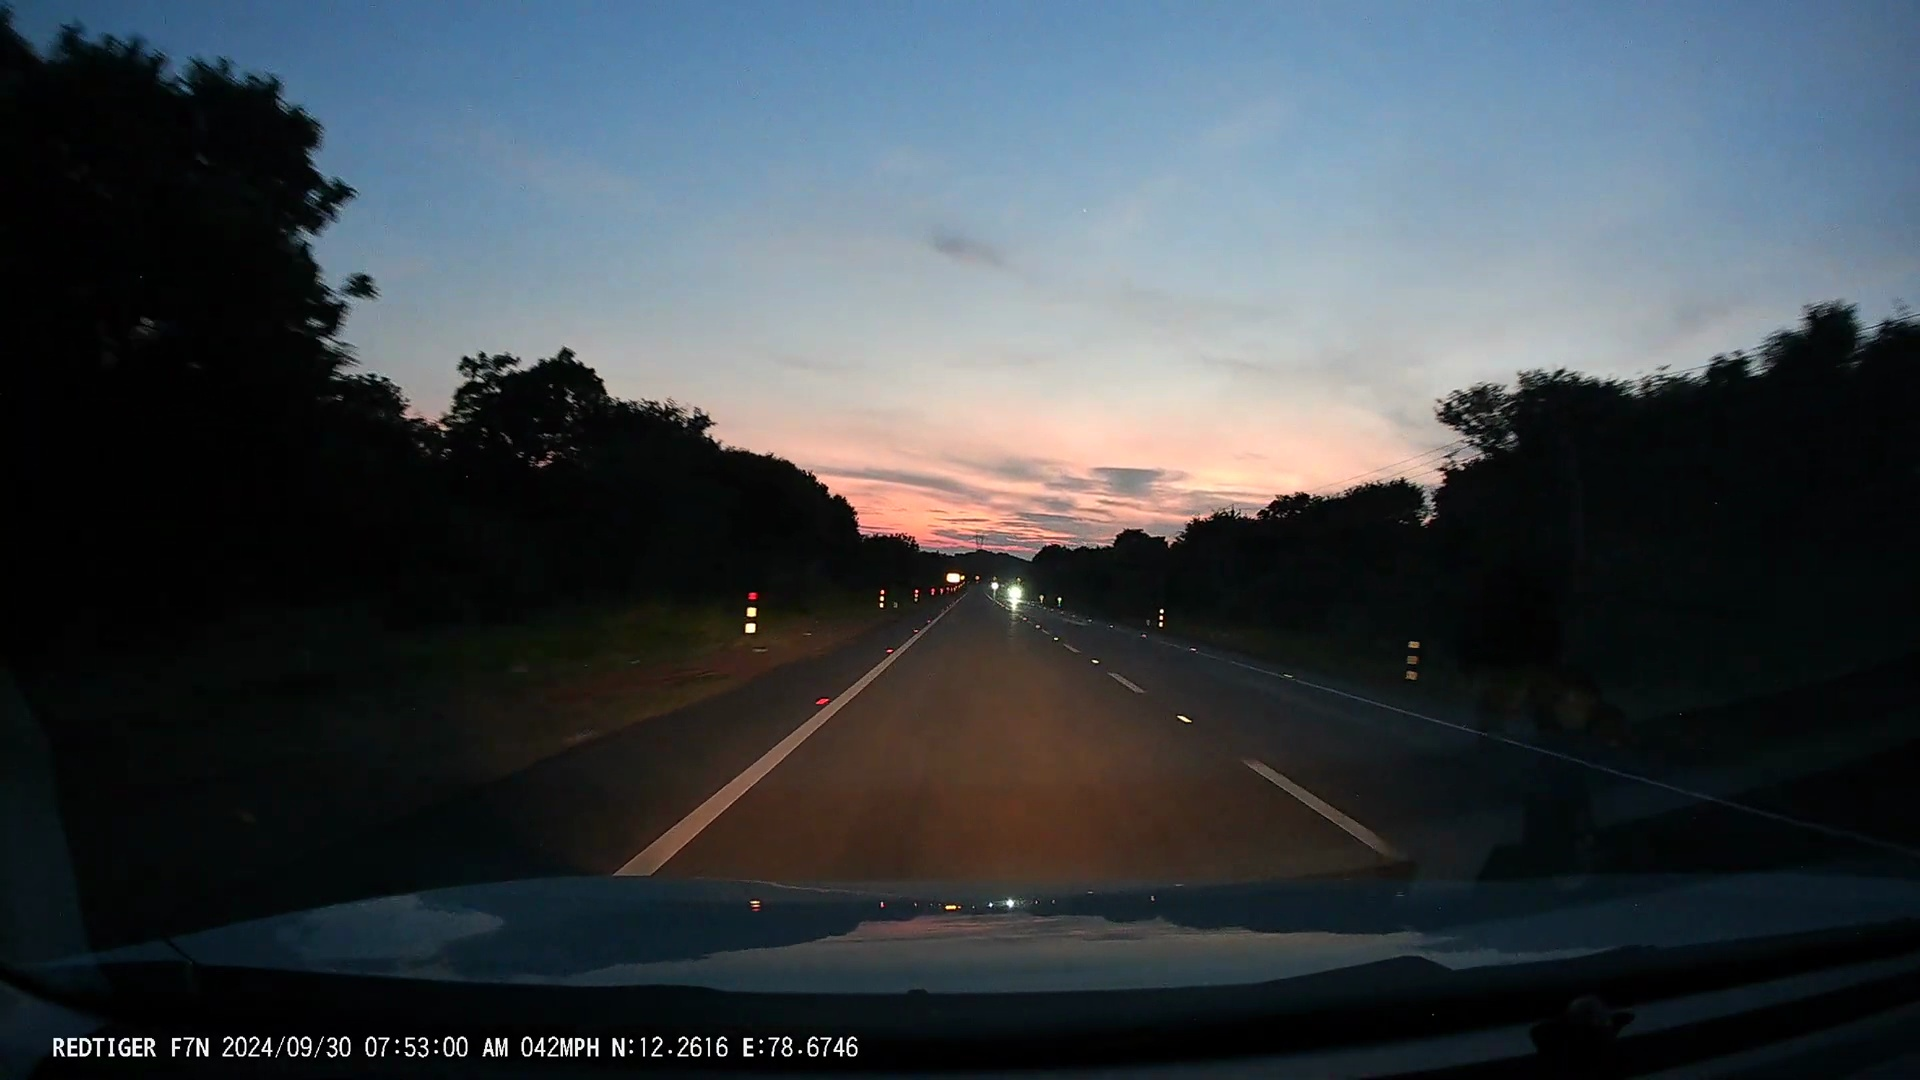headlight: (1007, 585, 1025, 600), (990, 582, 1000, 589)
two wheeler: (1007, 578, 1033, 611), (989, 567, 1000, 595)
